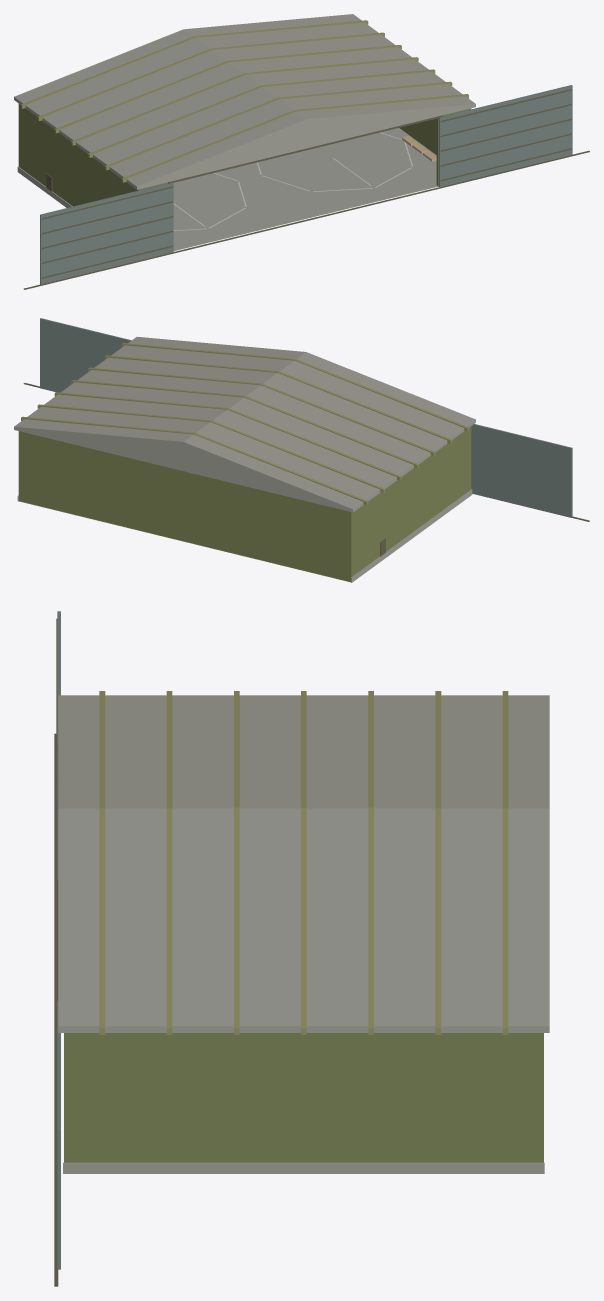
File: SM_HangarAbierto_v2_Refugio_LOD0.fbx
3 renders of one model, top to bottom at view 1: azimuth 30°, elevation 25°; view 2: azimuth 150°, elevation 25°; view 3: azimuth 270°, elevation 25°, orthographic. The views are drawn at different scales.
Parts seen in each view (by area): view 1: Cubierta, SM_hangar_abierto_v2_LOD0, Porton_E, Porton_O; view 2: Cubierta, SM_hangar_abierto_v2_LOD0, Porton_O, Porton_E; view 3: Cubierta, SM_hangar_abierto_v2_LOD0, Porton_E, Porton_O.
Boxes of the visible parts, bbox=[...] form: Cubierta: bbox=[14, 14, 475, 189]; SM_hangar_abierto_v2_LOD0: bbox=[17, 104, 589, 289]; Porton_E: bbox=[438, 85, 572, 186]; Porton_O: bbox=[40, 182, 173, 284]; Cubierta: bbox=[14, 336, 475, 512]; SM_hangar_abierto_v2_LOD0: bbox=[17, 383, 589, 582]; Porton_O: bbox=[471, 424, 572, 517]; Porton_E: bbox=[40, 318, 131, 392]; Cubierta: bbox=[58, 691, 549, 1034]; SM_hangar_abierto_v2_LOD0: bbox=[54, 733, 544, 1286]; Porton_E: bbox=[56, 1000, 60, 1269]; Porton_O: bbox=[56, 611, 60, 879].
Bounding box in the file's own units: 68 × 11.68 × 25.8.
